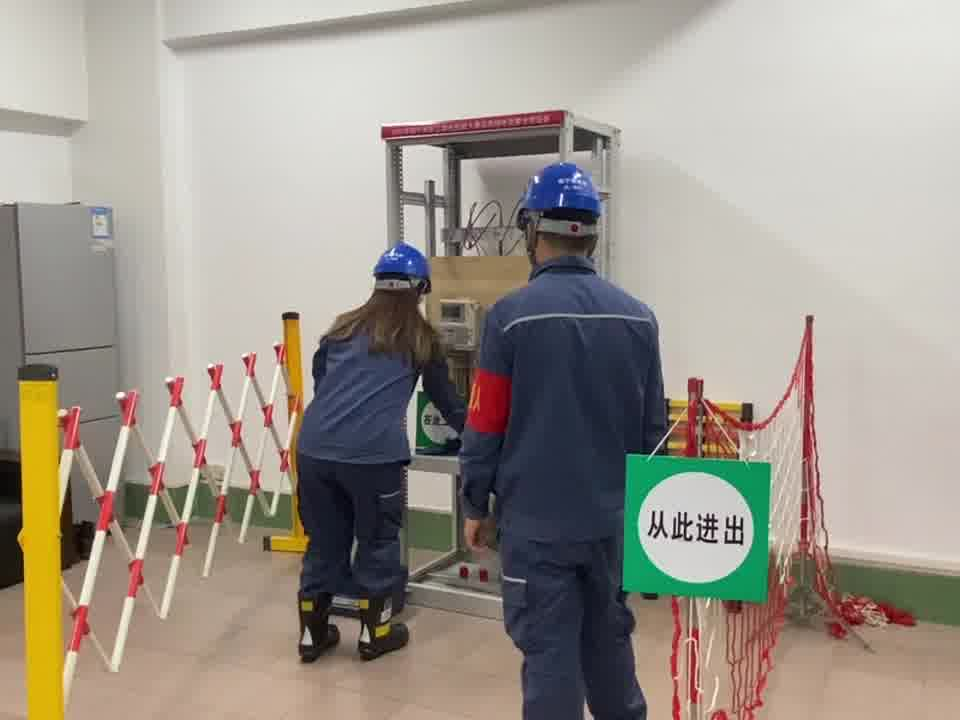badge: (465, 369, 513, 437)
downsuit: (494, 540, 653, 720), (295, 470, 410, 607)
hair: (330, 236, 442, 365)
halt: (514, 162, 606, 263)
hand: (456, 517, 491, 555)
inear: (516, 215, 549, 262)
intosign: (614, 452, 774, 600)
person: (457, 158, 677, 720), (288, 241, 458, 657)
shoe: (349, 595, 418, 655), (293, 590, 343, 664)
upsuit: (456, 266, 670, 533), (300, 318, 447, 461)
worksign: (412, 387, 464, 456)
